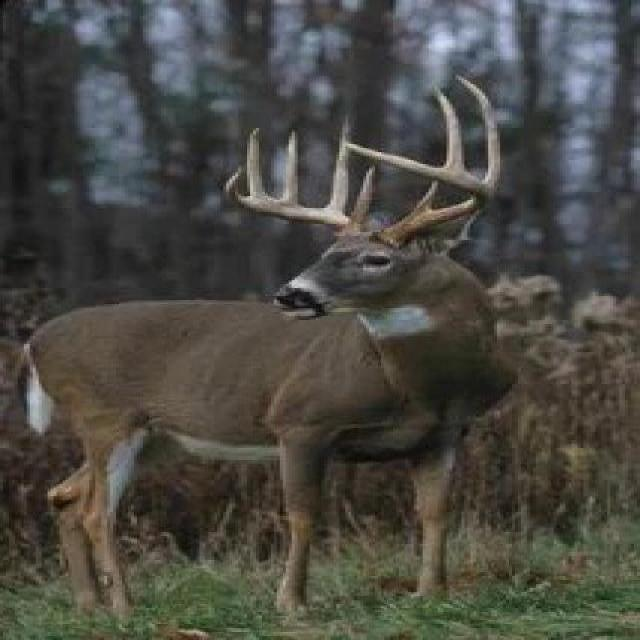deer: (27, 107, 624, 578)
